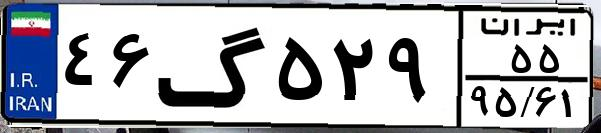1: (560, 70, 590, 125)
2: (330, 28, 385, 110)
4: (57, 26, 110, 100)
5: (270, 28, 330, 110), (537, 27, 568, 80), (508, 27, 537, 80), (495, 70, 520, 125)
6: (110, 28, 156, 98), (535, 70, 560, 125)
9: (385, 28, 445, 110), (470, 70, 495, 125)
گ: (156, 12, 270, 120)
